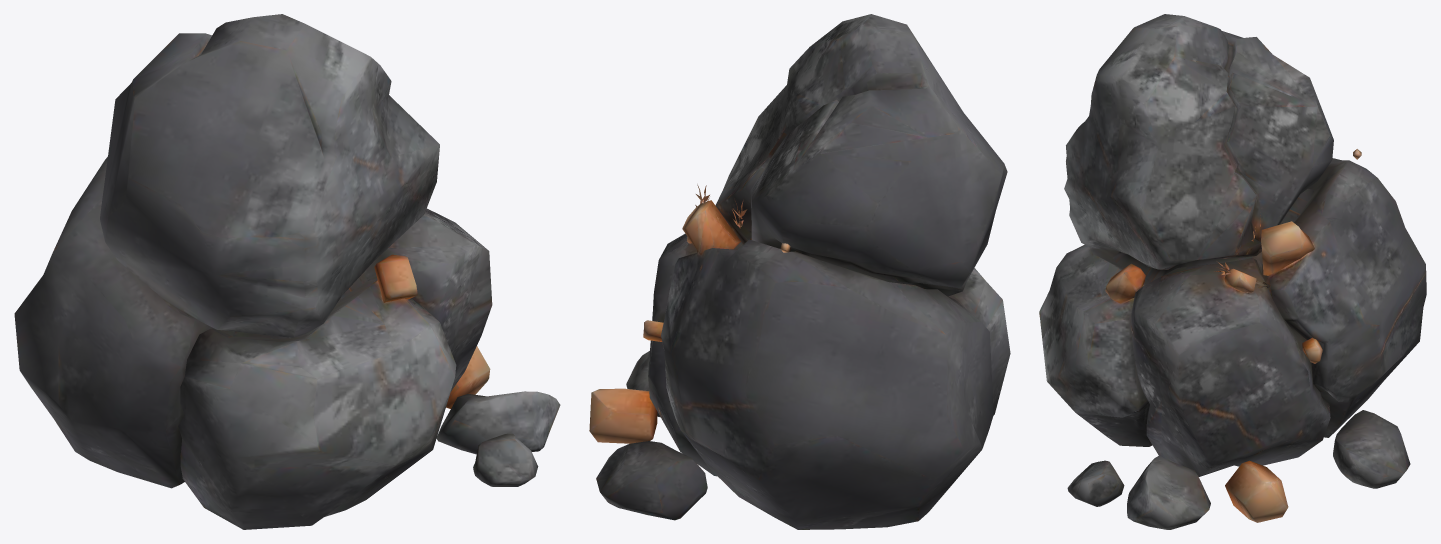
The model's file is node_ore_copper.glb.
3 renders of one model, left to right at view 1: azimuth 30°, elevation 25°; view 2: azimuth 150°, elevation 25°; view 3: azimuth 270°, elevation 25°, orthographic. The views are drawn at different scales.
Parts seen in each view (by area): view 1: tripo_node_5fe7e622-b740-4e6c-8ce6-5fc0ad04072b; view 2: tripo_node_5fe7e622-b740-4e6c-8ce6-5fc0ad04072b; view 3: tripo_node_5fe7e622-b740-4e6c-8ce6-5fc0ad04072b.
Part boxes in pixels (left/top/right/bottom): tripo_node_5fe7e622-b740-4e6c-8ce6-5fc0ad04072b: left=14, top=14, right=560, bottom=529; tripo_node_5fe7e622-b740-4e6c-8ce6-5fc0ad04072b: left=589, top=14, right=1010, bottom=529; tripo_node_5fe7e622-b740-4e6c-8ce6-5fc0ad04072b: left=1039, top=14, right=1426, bottom=529.
Bounding box in the file's own units: 1.6 × 1.6 × 1.41.
1 material, 1 textured.
